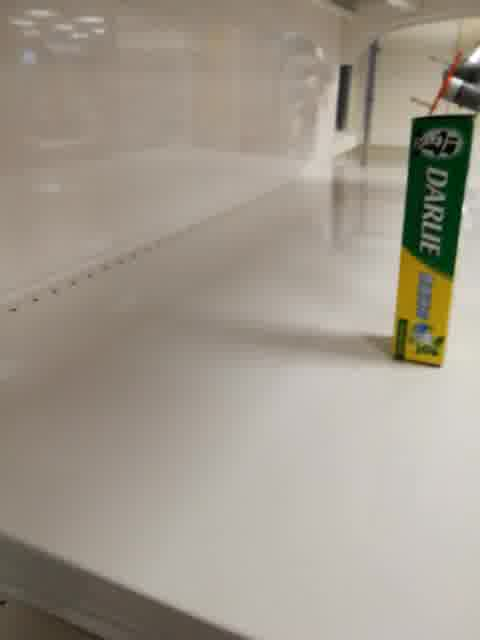toothpaste: (389, 110, 473, 369)
